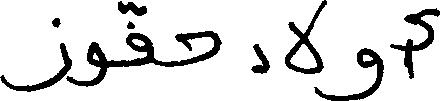X: (0, 13, 69, 96), (324, 0, 381, 100), (287, 0, 322, 100), (407, 3, 439, 83), (71, 37, 105, 91), (177, 26, 217, 70), (128, 0, 150, 71), (254, 39, 268, 78)
